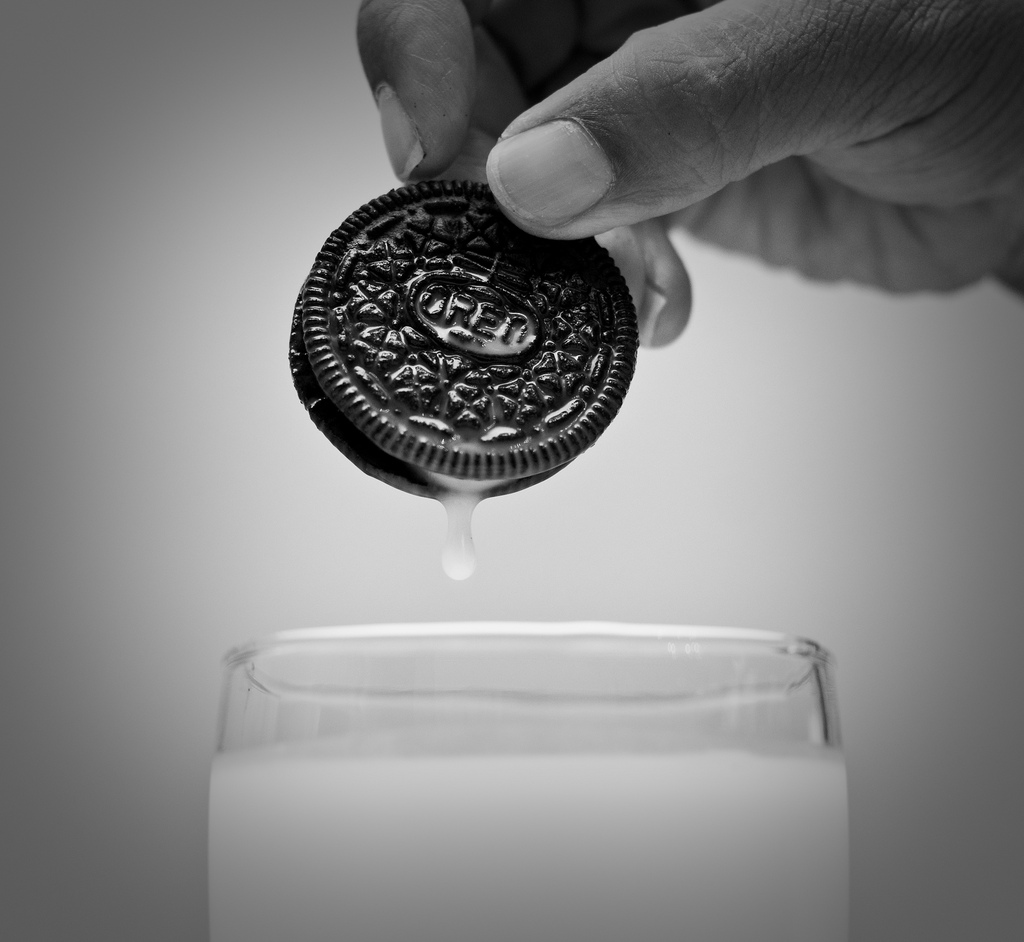glass of milk: (201, 627, 850, 942)
